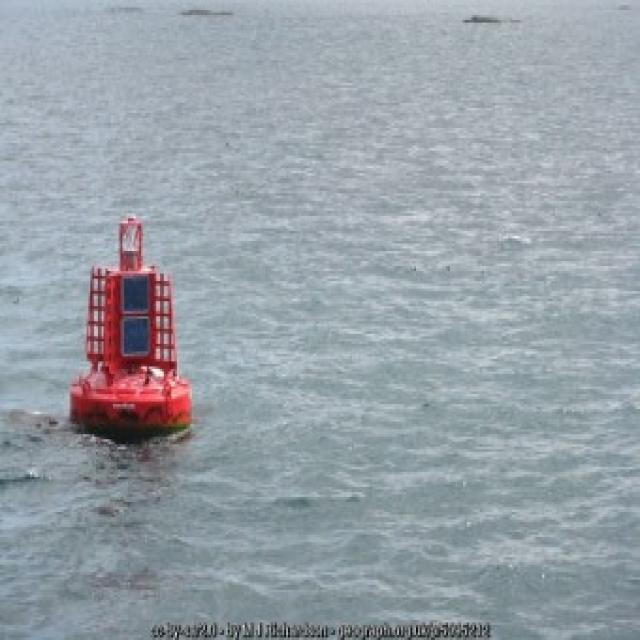buoy: (59, 182, 206, 478)
